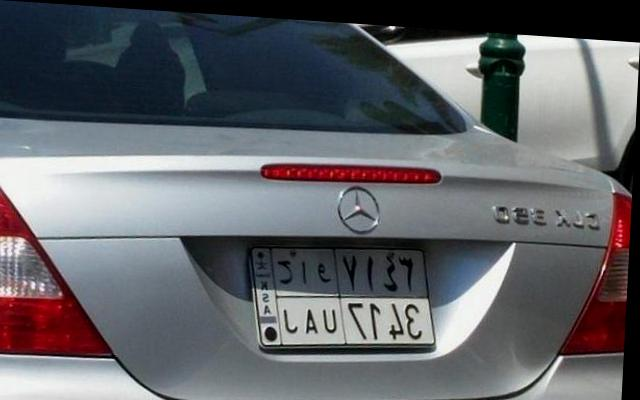License_Plate: (231, 222, 449, 377)
